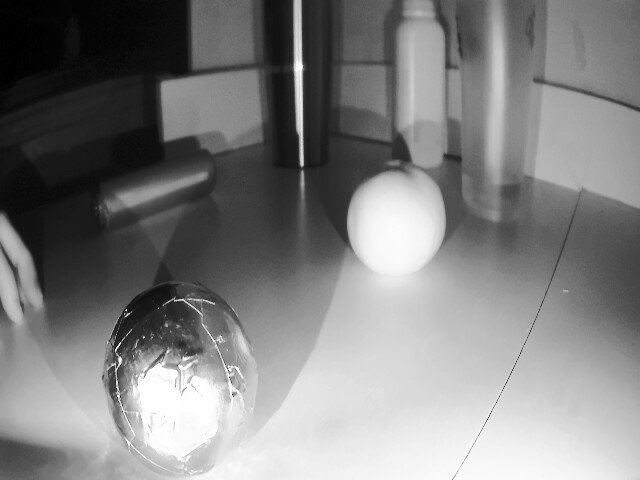silver: (86, 282, 262, 479)
